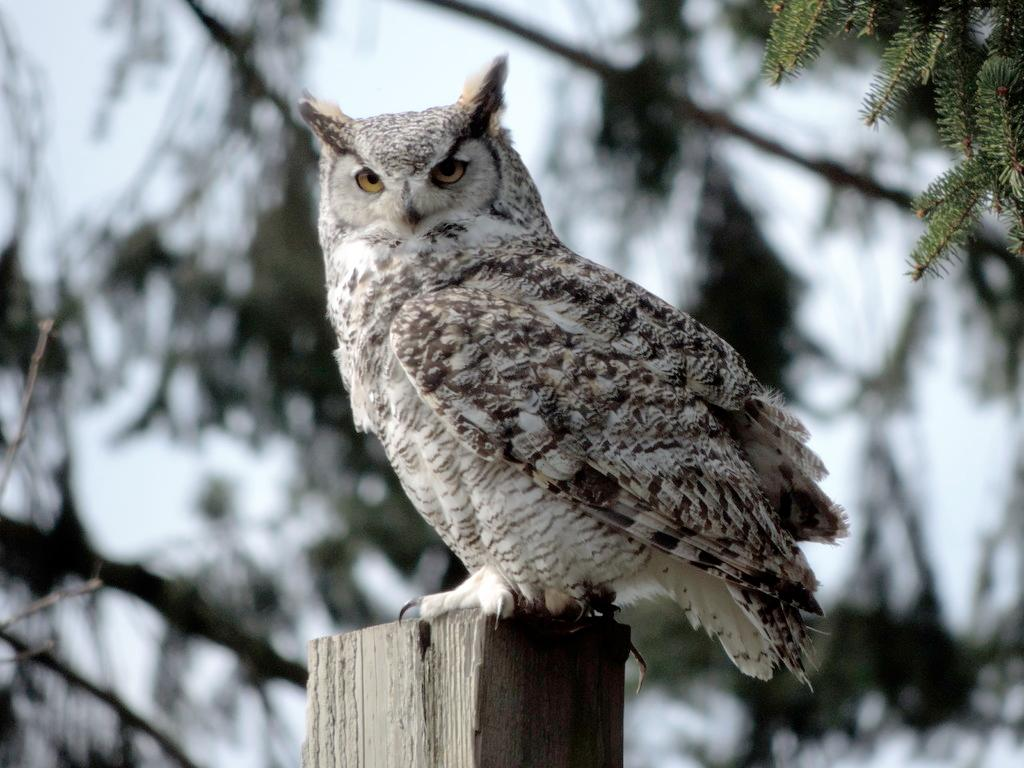Owl: (296, 51, 851, 691)
